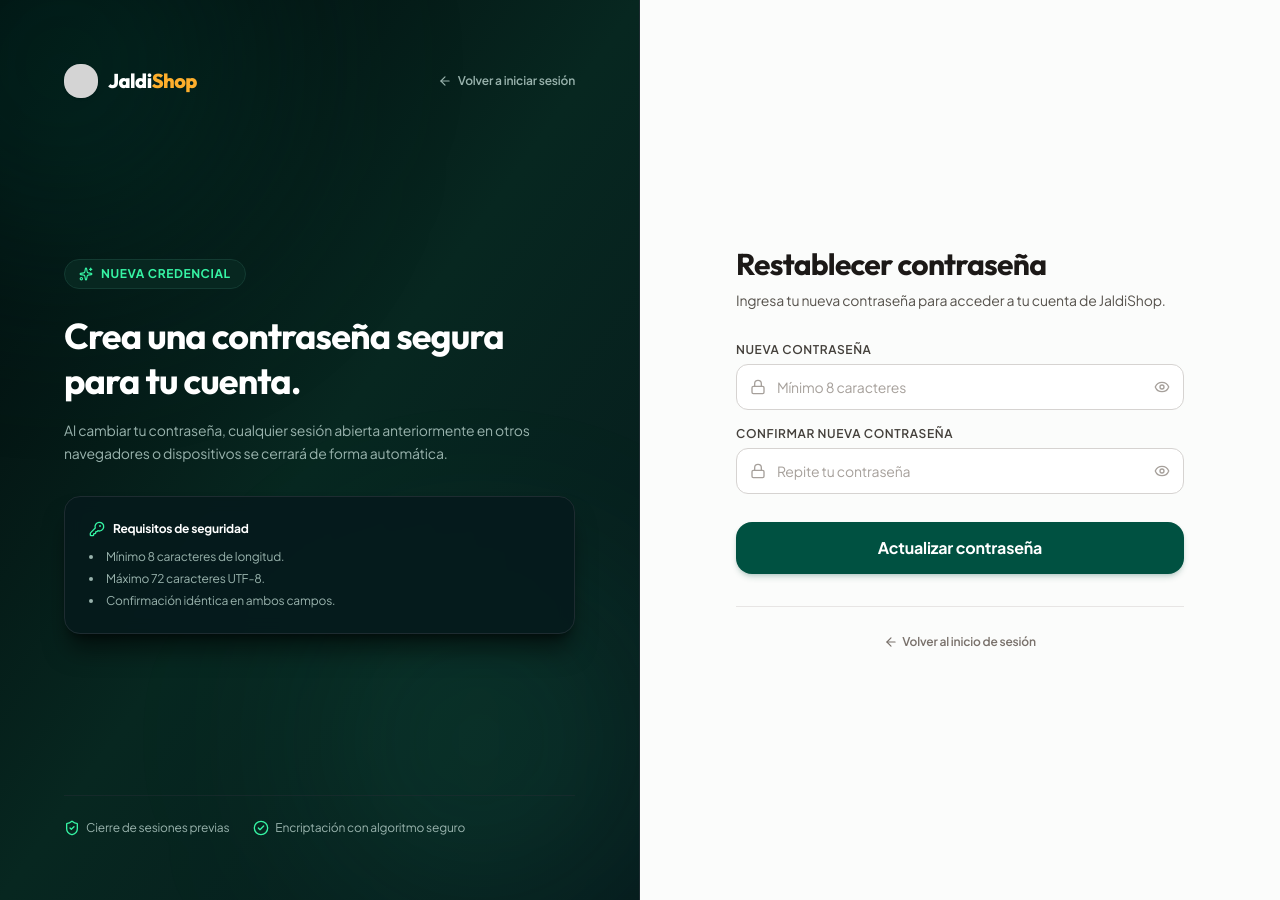
ResetPasswordForm Component › Structured Error Classification via ApiException › transitions to invalid/expired token view when backend responds with structured 422
Type "NuevaContrasena2026" into the password field labelled "Nueva contraseña" at [960, 386], box x1=736 y1=364 x2=1184 y2=410
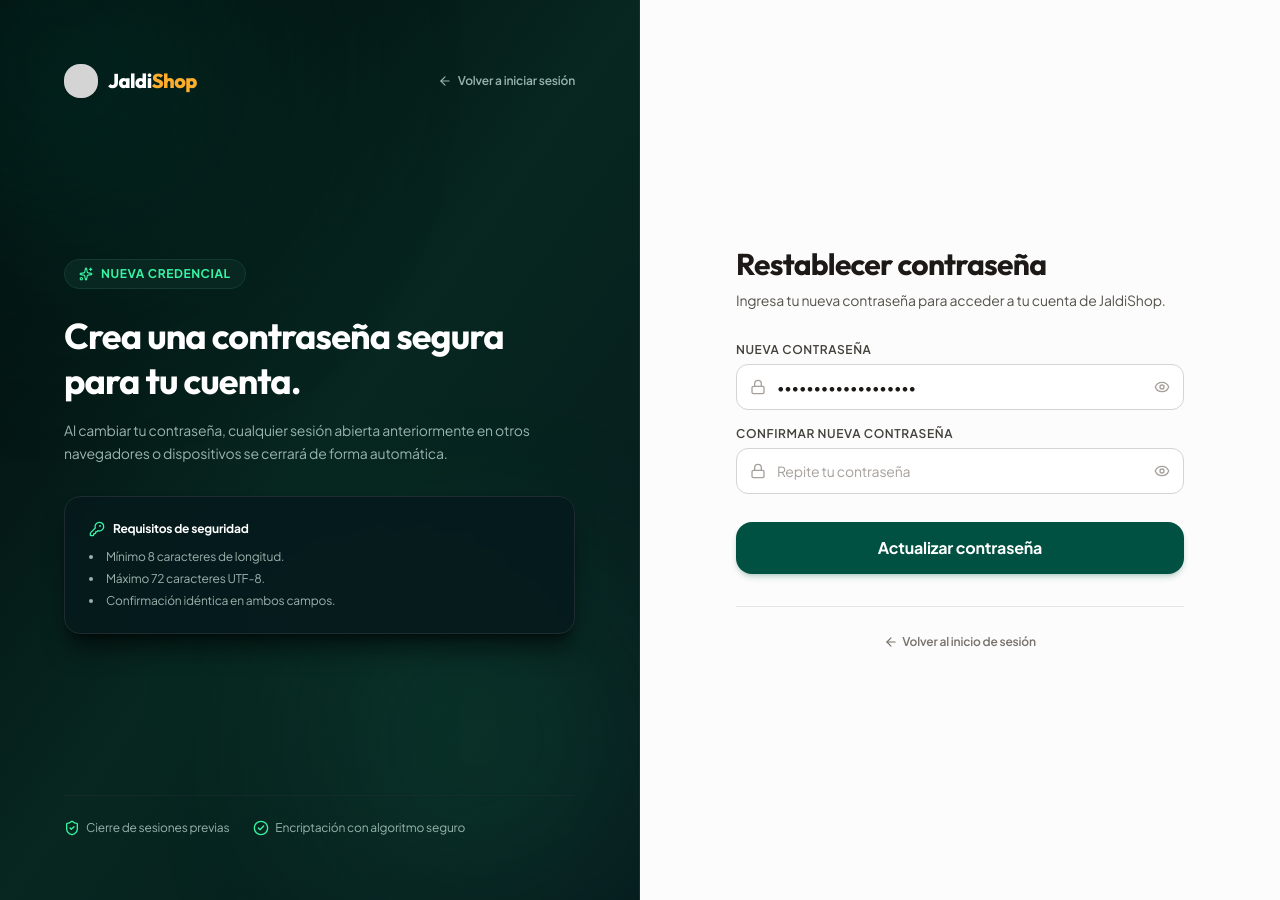
Type "NuevaContrasena2026" into the password field labelled "Confirmar nueva contraseña" at [960, 470], box x1=736 y1=448 x2=1184 y2=494
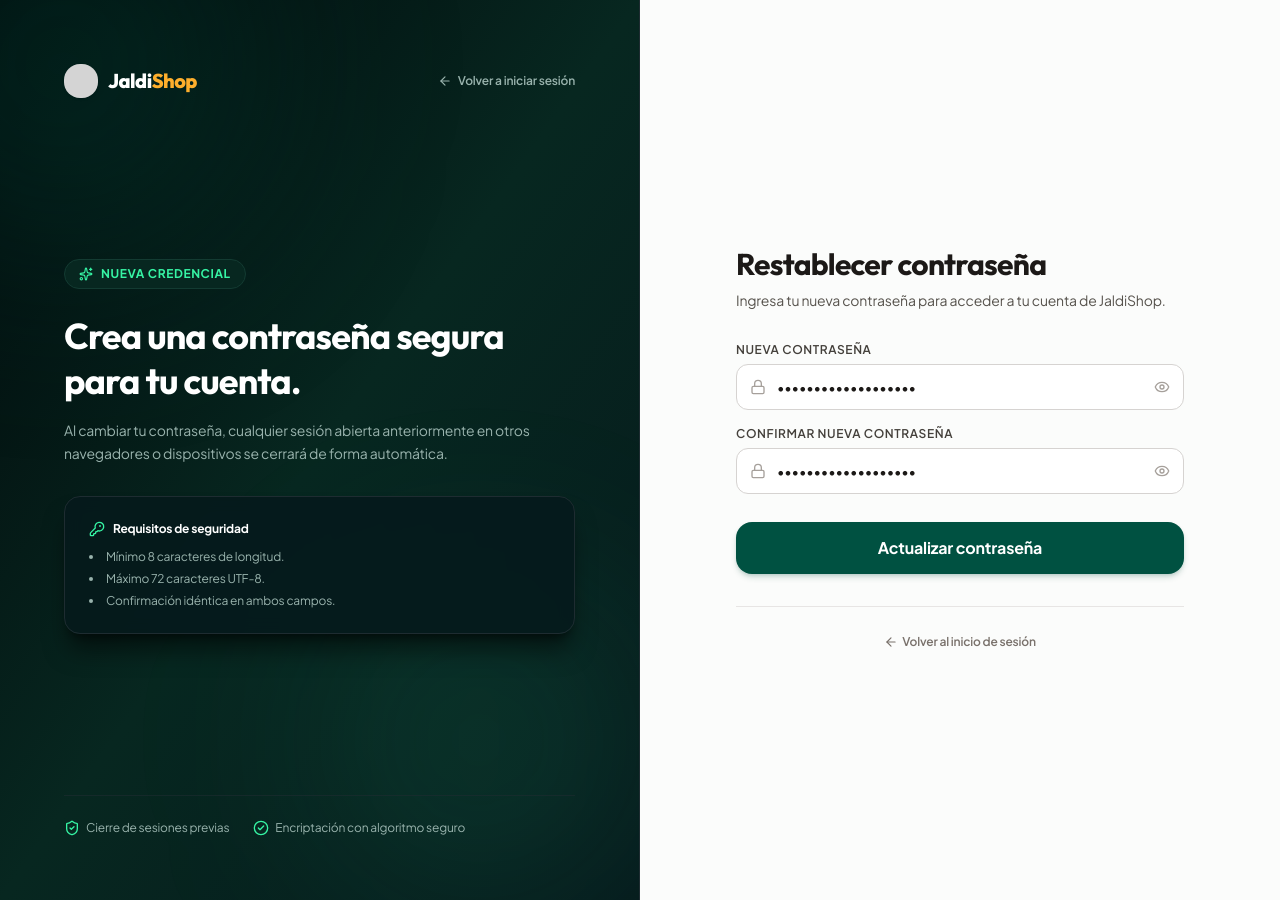
Click the button "Actualizar contraseña" at [960, 548], box x1=736 y1=522 x2=1184 y2=574
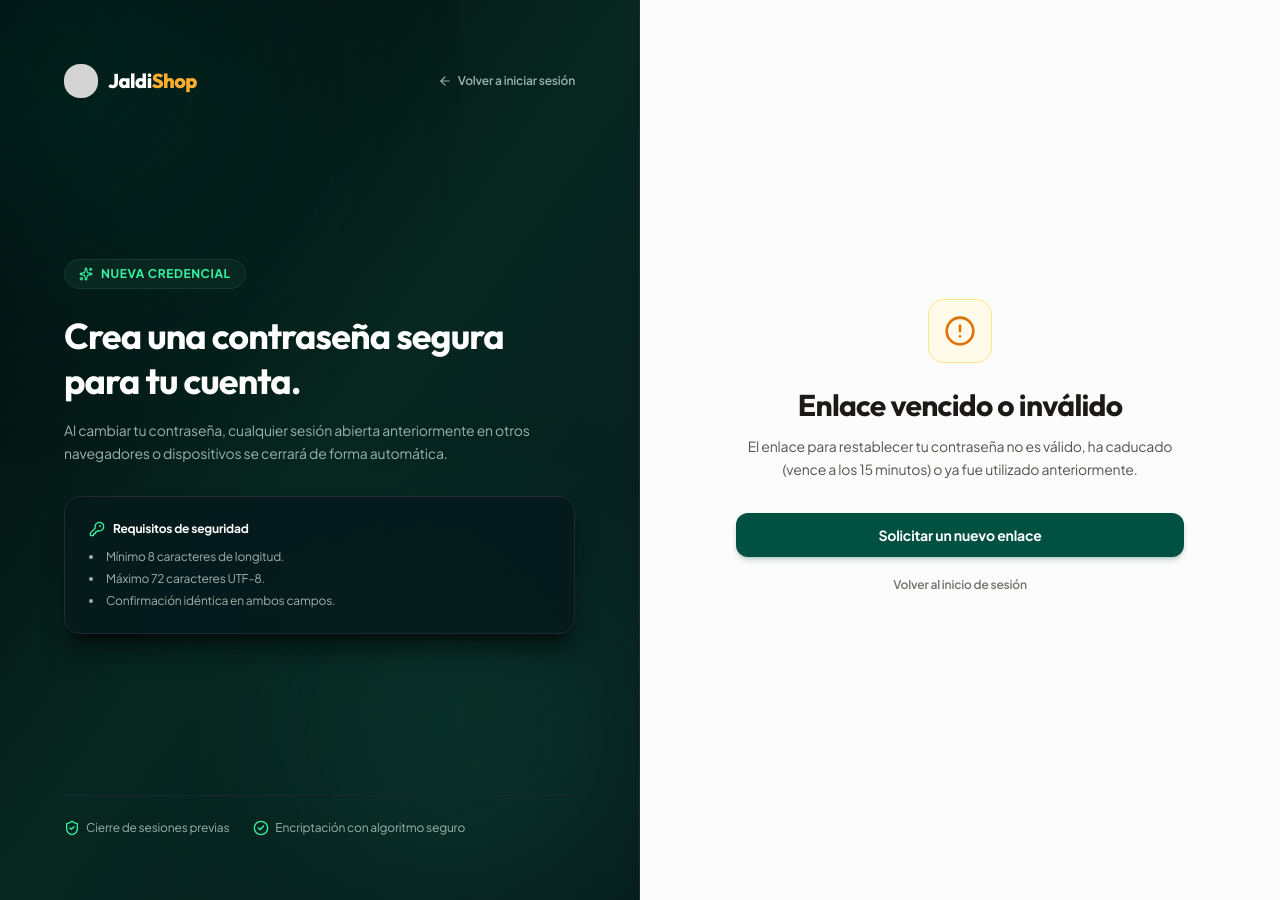
expect the element with test id "reset-password-invalid-token" is shown: met, box x1=736 y1=299 x2=1184 y2=601
expect the heading "Enlace vencido o inválido" is shown: met, box x1=798 y1=386 x2=1122 y2=424
